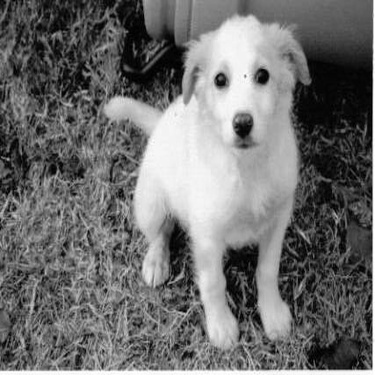dog: (93, 9, 319, 355)
